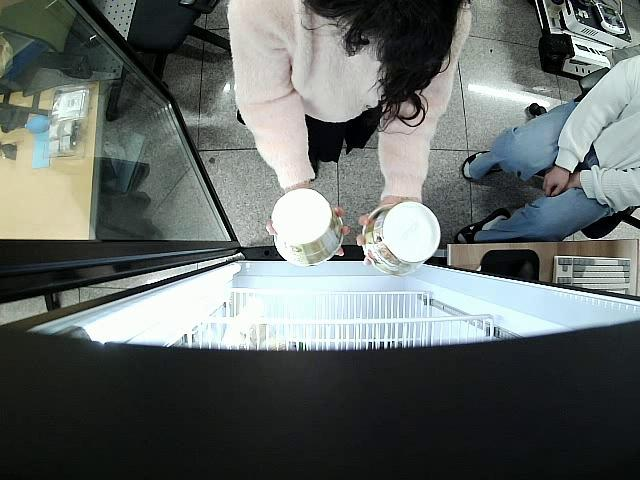00_hand: (263, 204, 350, 260), (356, 207, 423, 269)
03_chapagetti_L: (363, 202, 441, 276), (272, 189, 345, 268)
